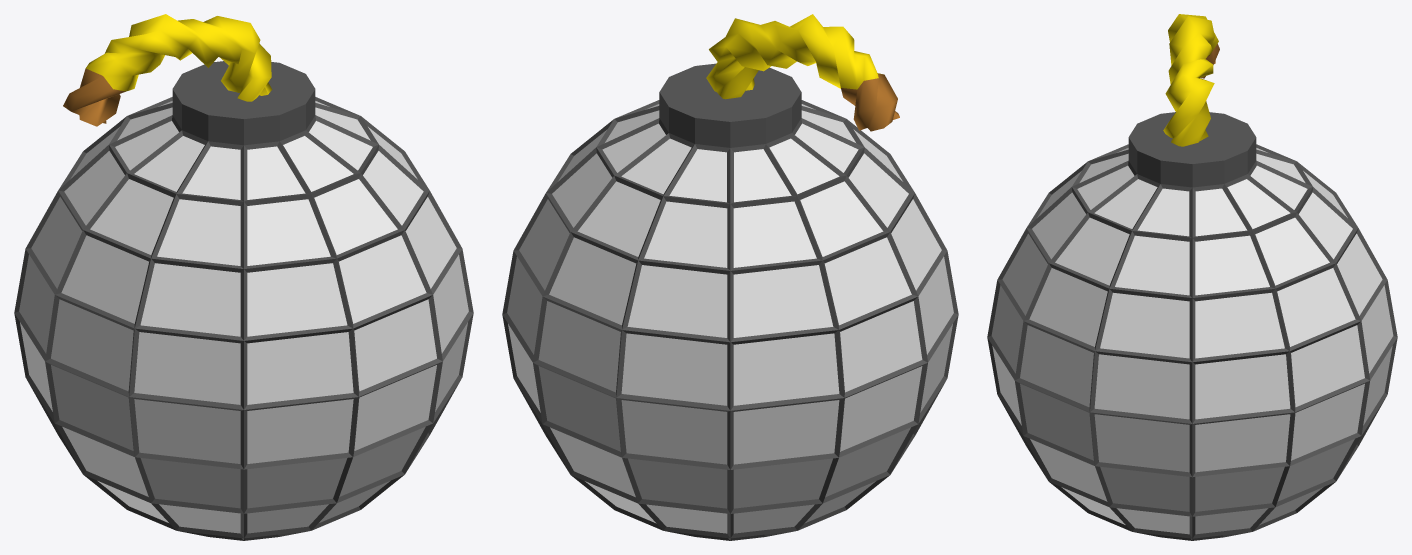
The model's file is DiscoBomb 2.fbx.
3 renders of one model, left to right at view 1: azimuth 30°, elevation 25°; view 2: azimuth 150°, elevation 25°; view 3: azimuth 270°, elevation 25°, orthographic. The views are drawn at different scales.
Parts seen in each view (by area): view 1: Sphere.002; view 2: Sphere.002; view 3: Sphere.002.
Part boxes in pixels (x1=…): Sphere.002: x1=14, y1=14, x2=473, y2=540; Sphere.002: x1=502, y1=14, x2=958, y2=540; Sphere.002: x1=987, y1=14, x2=1397, y2=540.
Bounding box in the file's own units: 203 × 258 × 203.
